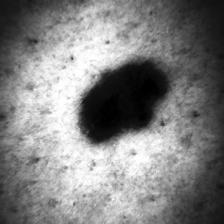Benign Marking or Mole: (80, 64, 168, 140)
